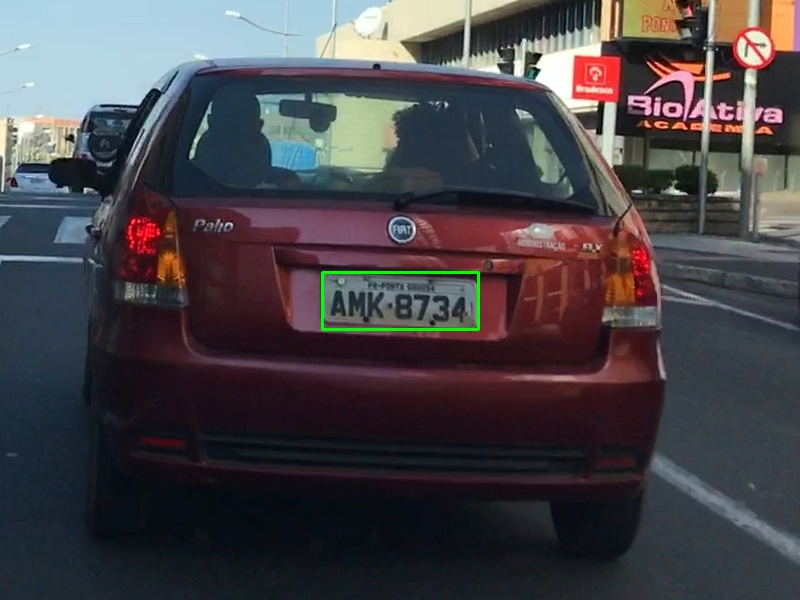placa: (322, 272, 478, 329)
